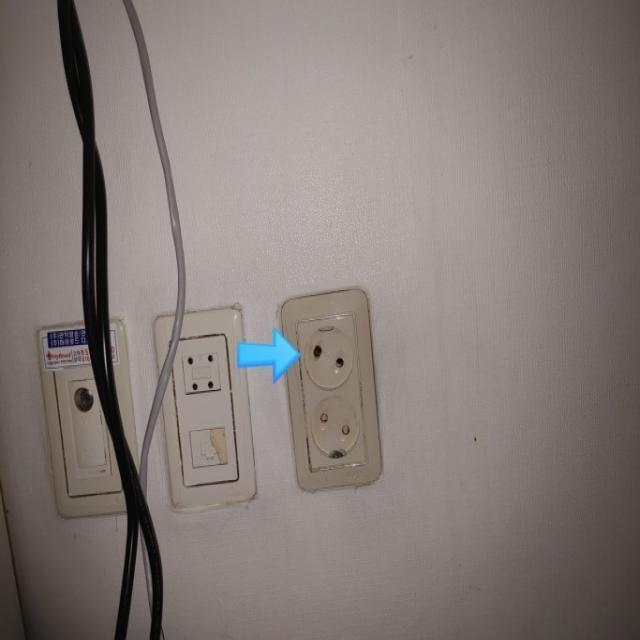typeb: (258, 277, 408, 515)
